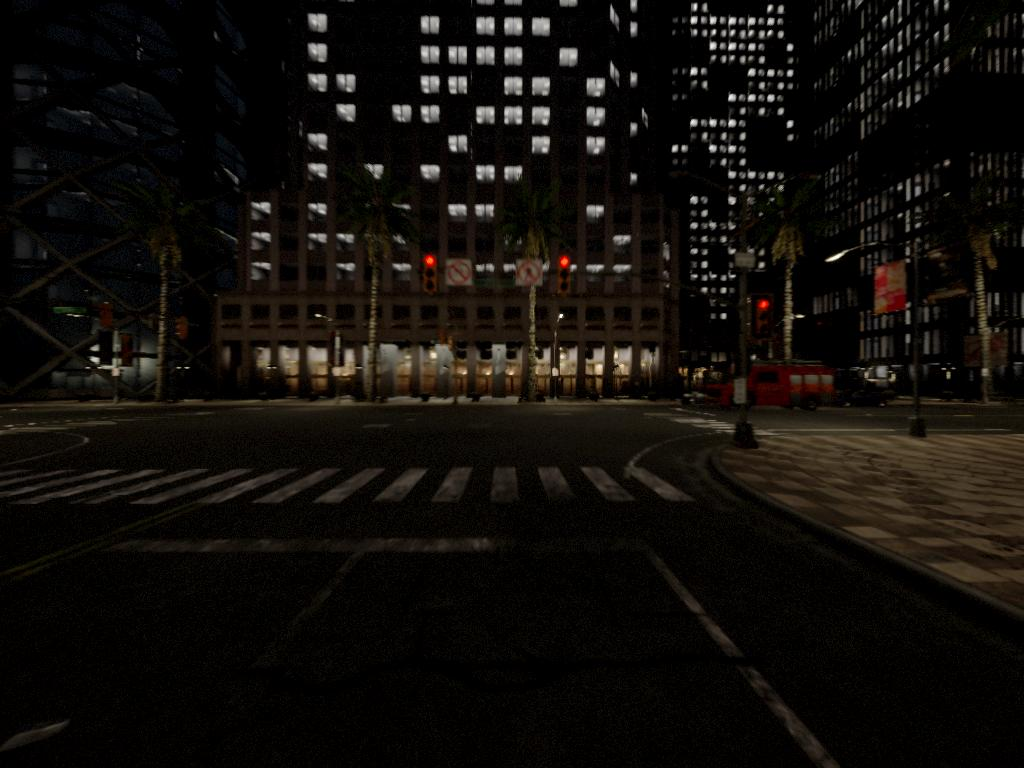traffic_light: (752, 286, 777, 332), (557, 253, 574, 293), (422, 254, 438, 294)
